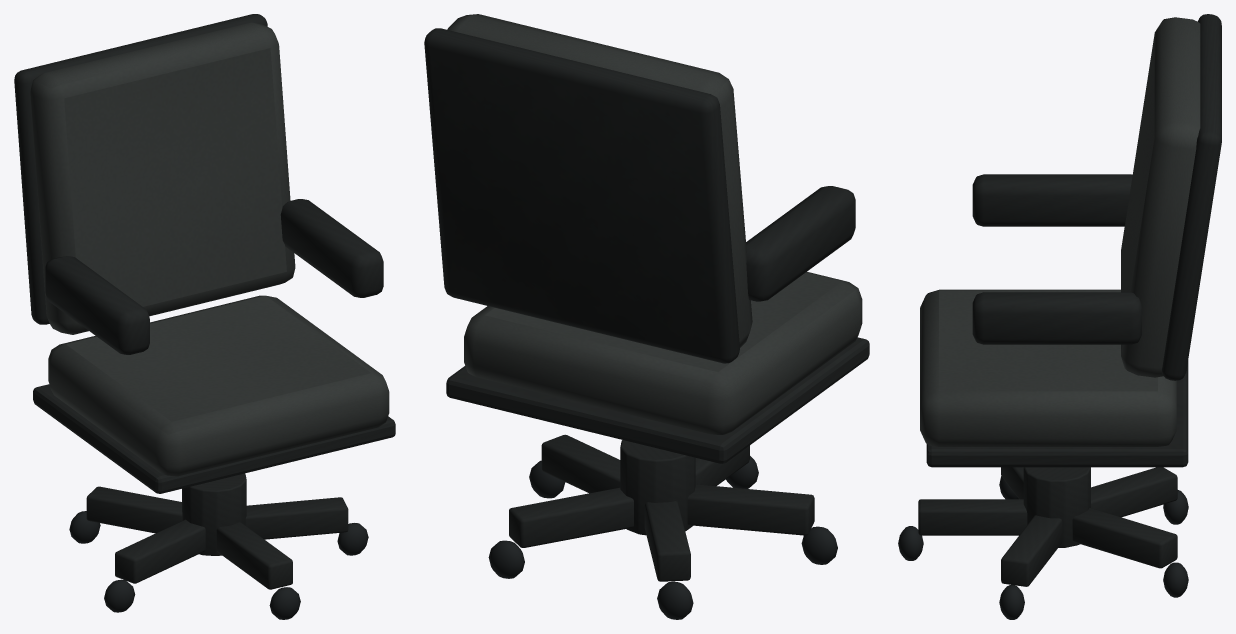
The model's file is chair_standard_lod2.glb.
3 views of the same model, side by side, from view 1: azimuth 30°, elevation 25°; view 2: azimuth 150°, elevation 25°; view 3: azimuth 270°, elevation 25° (orthographic). The views are drawn at different scales.
Parts seen in each view (by area): view 1: OfficeLeather_LOD2, OfficePlastic_LOD2, OfficeCasterRubberSet_LOD2; view 2: OfficePlastic_LOD2, OfficeLeather_LOD2, OfficeCasterRubberSet_LOD2; view 3: OfficePlastic_LOD2, OfficeLeather_LOD2, OfficeCasterRubberSet_LOD2.
Part boxes in pixels (x1=…): OfficeLeather_LOD2: x1=30, y1=22, x2=389, y2=476; OfficePlastic_LOD2: x1=14, y1=14, x2=395, y2=589; OfficeCasterRubberSet_LOD2: x1=69, y1=511, x2=368, y2=619; OfficePlastic_LOD2: x1=424, y1=28, x2=869, y2=581; OfficeLeather_LOD2: x1=447, y1=14, x2=862, y2=434; OfficeCasterRubberSet_LOD2: x1=488, y1=456, x2=837, y2=619; OfficePlastic_LOD2: x1=918, y1=14, x2=1221, y2=586; OfficeLeather_LOD2: x1=920, y1=17, x2=1200, y2=446; OfficeCasterRubberSet_LOD2: x1=898, y1=476, x2=1188, y2=619.
Bounding box in the file's own units: 0.635 × 1.08 × 0.6498.
3 materials, 2 textured.
